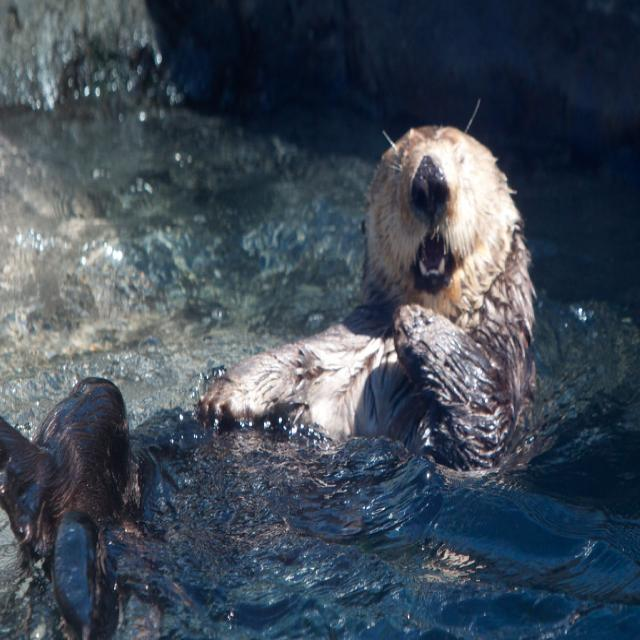otter: (220, 126, 534, 421)
